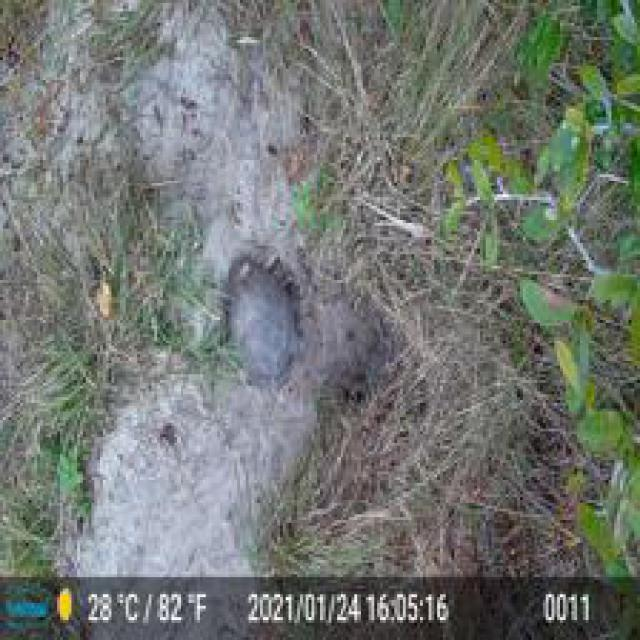tortoise: (220, 254, 306, 392)
